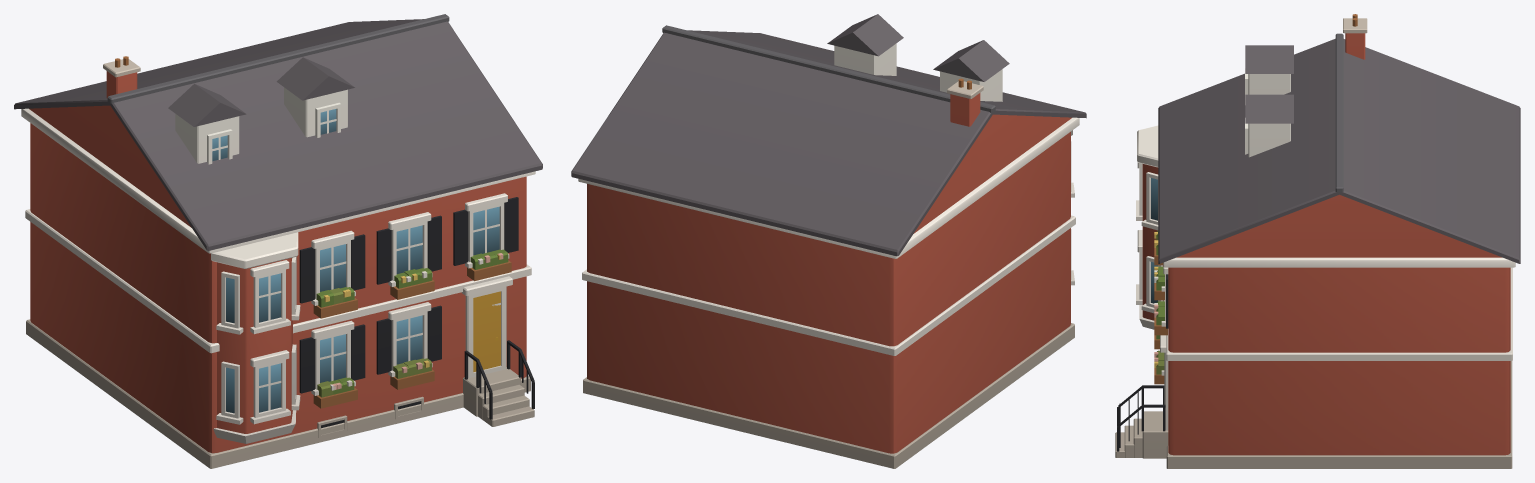
The model's file is beacon_w3.glb.
The picture shows the model from 3 angles, left to right: view 1: azimuth 30°, elevation 25°; view 2: azimuth 150°, elevation 25°; view 3: azimuth 270°, elevation 25°; orthographic projection. The views are drawn at different scales.
Parts seen in each view (by area): view 1: beacon_w3; view 2: beacon_w3; view 3: beacon_w3.
Boxes of the visible parts, bbox=[...] form: beacon_w3: bbox=[14, 14, 542, 468]; beacon_w3: bbox=[571, 14, 1086, 468]; beacon_w3: bbox=[1115, 14, 1520, 468].
Size of the model in its own units: 12.8 by 12.05 by 14.21.
Materials: 1 (1 with a texture image).
